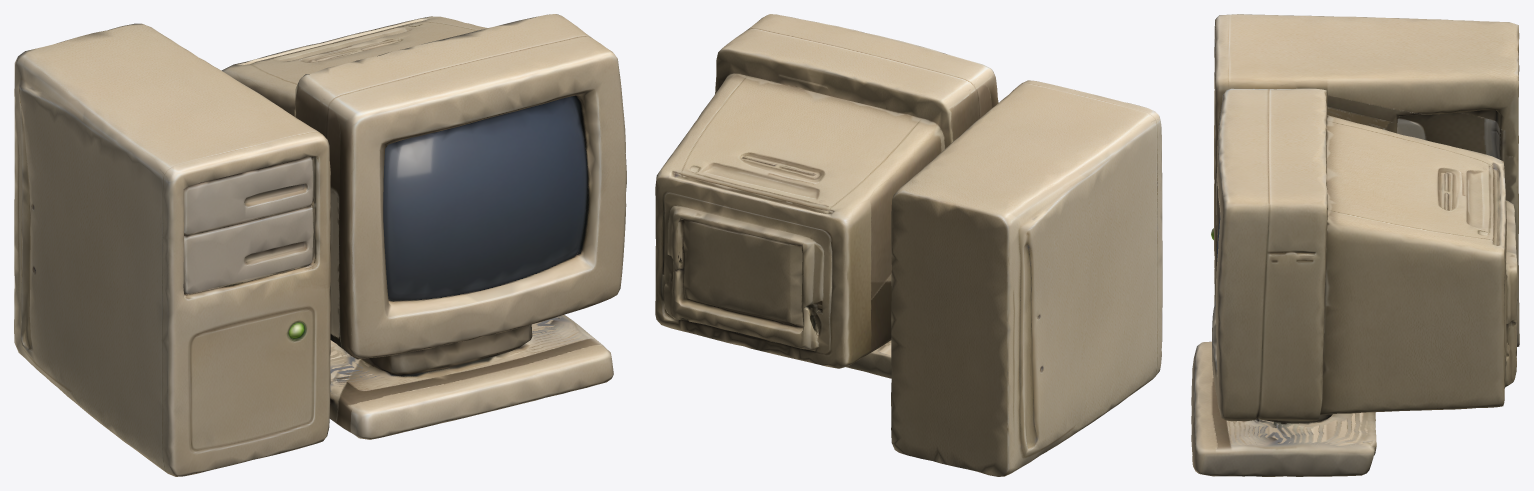
Rendered from VAR_Computer_MyComputerIcon.fbx.
3 renders of one model, left to right at view 1: azimuth 30°, elevation 25°; view 2: azimuth 150°, elevation 25°; view 3: azimuth 270°, elevation 25°, orthographic. The views are drawn at different scales.
Parts seen in each view (by area): view 1: texture_mapping; view 2: texture_mapping; view 3: texture_mapping.
Part boxes in pixels (box(x1,y1,x2,y2)): texture_mapping: box(14, 14, 626, 476); texture_mapping: box(655, 14, 1162, 476); texture_mapping: box(1191, 14, 1519, 476).
Bounding box in the file's own units: 1 × 0.6839 × 0.662.
1 material, 1 textured.
